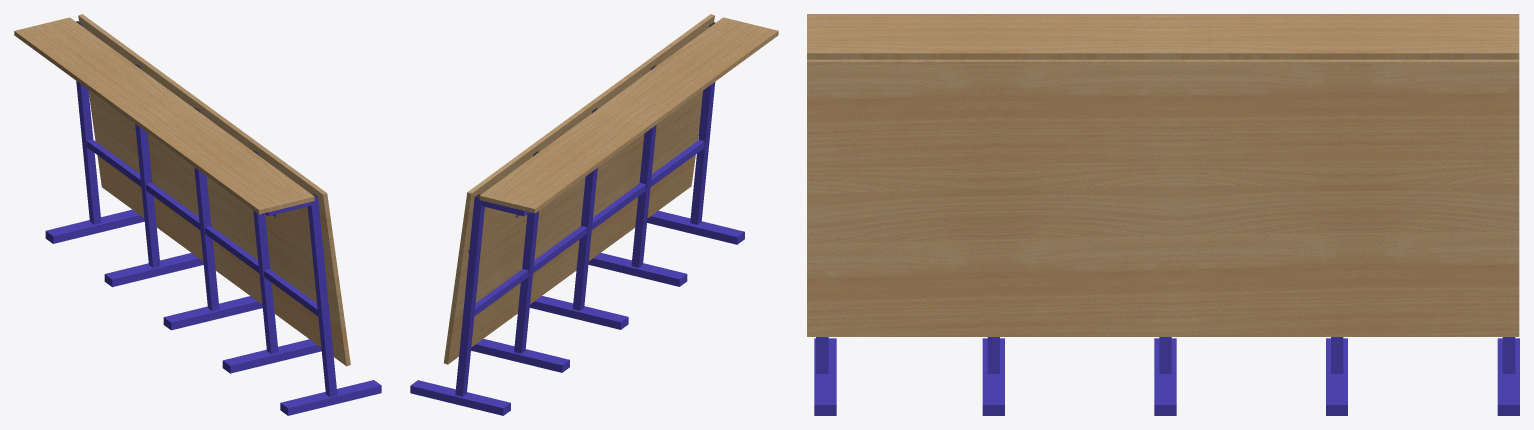
File: lawka_4_przod.fbx
3 views of the same model, side by side, from view 1: azimuth 30°, elevation 25°; view 2: azimuth 150°, elevation 25°; view 3: azimuth 270°, elevation 25° (orthographic). The views are drawn at different scales.
Parts seen in each view (by area): view 1: przod5; view 2: przod5; view 3: przod5.
Part boxes in pixels (<box>): przod5: <box>14,14,381,415</box>; przod5: <box>410,14,778,415</box>; przod5: <box>807,14,1519,415</box>.
Size of the model in its own units: 150 by 248 by 511.
